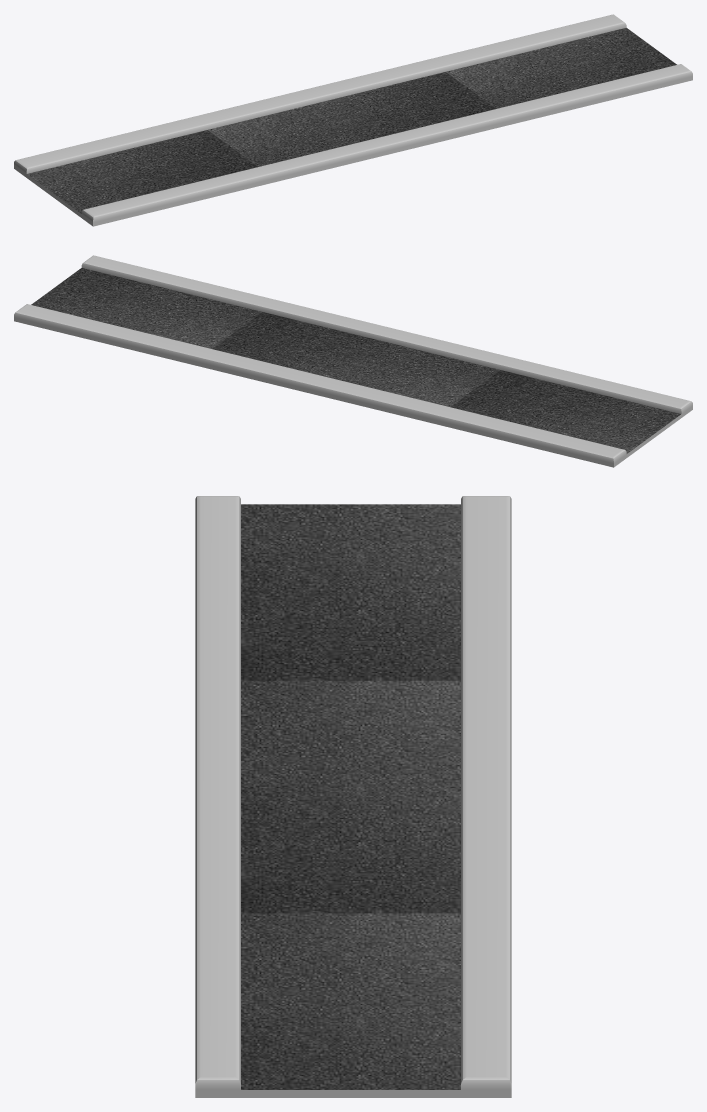
File: ROAD.fbx
3 renders of one model, top to bottom at view 1: azimuth 30°, elevation 25°; view 2: azimuth 150°, elevation 25°; view 3: azimuth 270°, elevation 25°, orthographic. The views are drawn at different scales.
Parts seen in each view (by area): view 1: pCube125; view 2: pCube125; view 3: pCube125.
Boxes of the visible parts, x1,y1,x2,y2 form: pCube125: (14, 14, 692, 226); pCube125: (14, 255, 692, 467); pCube125: (195, 496, 511, 1097).
Size of the model in its own units: 2.35 by 0.0349 by 0.538.
